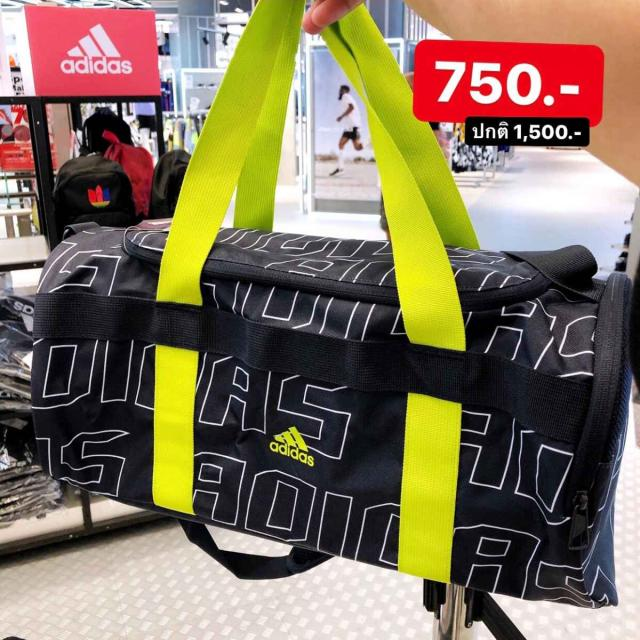handbag: (30, 202, 630, 610)
